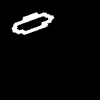chain: (12, 13, 53, 33)
